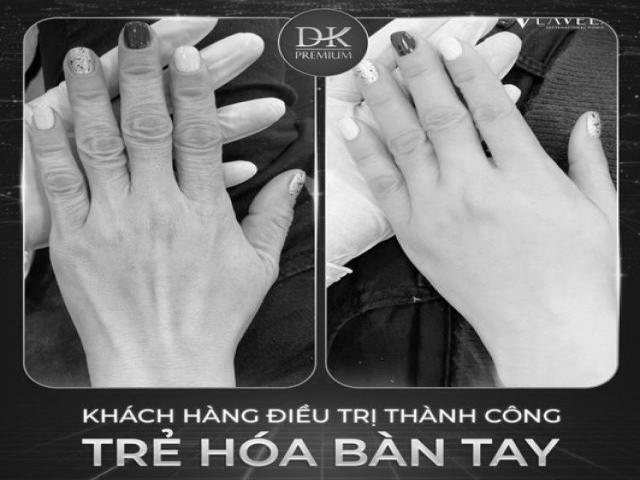not-gloved: (29, 25, 299, 352), (344, 31, 620, 349)
